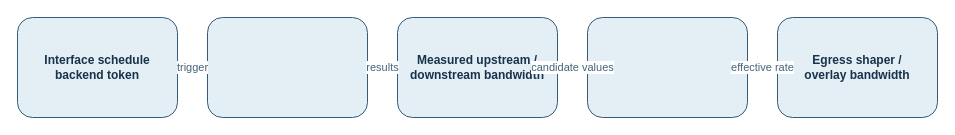
Image size: 955x135. Some labels were removed from this diagram. Here are the shapes that lost their labels. From the top down, the centre of each, then its label:
the point at 287,67: Speed-test traffic min / max caps
the point at 667,67: Interface source manual or measured
